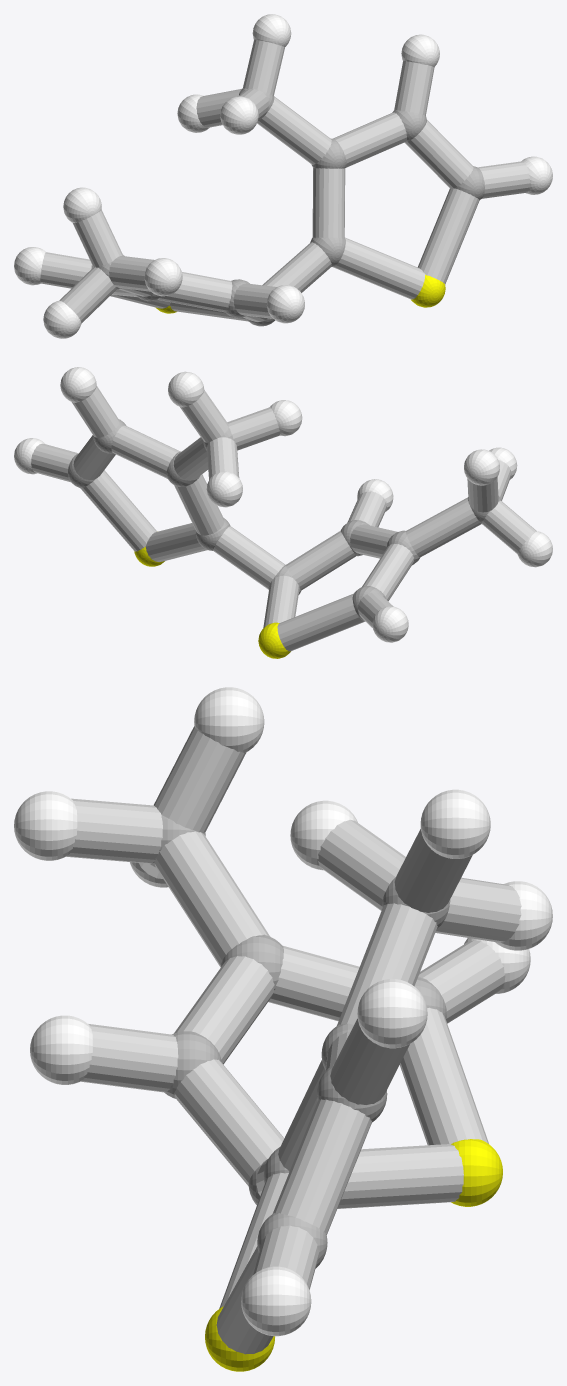
The model's file is Methylthiophene_Phi_50_Theta_90_Methylthiophene.glb.
The picture shows the model from 3 angles, top to bottom: view 1: azimuth 30°, elevation 25°; view 2: azimuth 150°, elevation 25°; view 3: azimuth 270°, elevation 25°; orthographic projection. The views are drawn at different scales.
Parts seen in each view (by area): view 1: grp7965, grp3621, grp1, grp7241; view 2: grp7965, grp3621, grp1, grp7241; view 3: grp7965, grp3621, grp1, grp7241.
Boxes of the visible parts, x1=… form: grp7965: x1=40, y1=39, x2=530, y2=323; grp3621: x1=14, y1=14, x2=552, y2=338; grp1: x1=91, y1=88, x2=484, y2=326; grp7241: x1=155, y1=274, x2=445, y2=313; grp7965: x1=31, y1=386, x2=536, y2=651; grp3621: x1=14, y1=367, x2=552, y2=642; grp1: x1=68, y1=419, x2=500, y2=621; grp7241: x1=134, y1=546, x2=290, y2=658; grp7965: x1=66, y1=726, x2=521, y2=1354; grp3621: x1=14, y1=687, x2=552, y2=1336; grp1: x1=149, y1=815, x2=450, y2=1268; grp7241: x1=205, y1=1139, x2=502, y2=1371.
Size of the model in its own units: 9.61 by 4.7 by 4.6.
